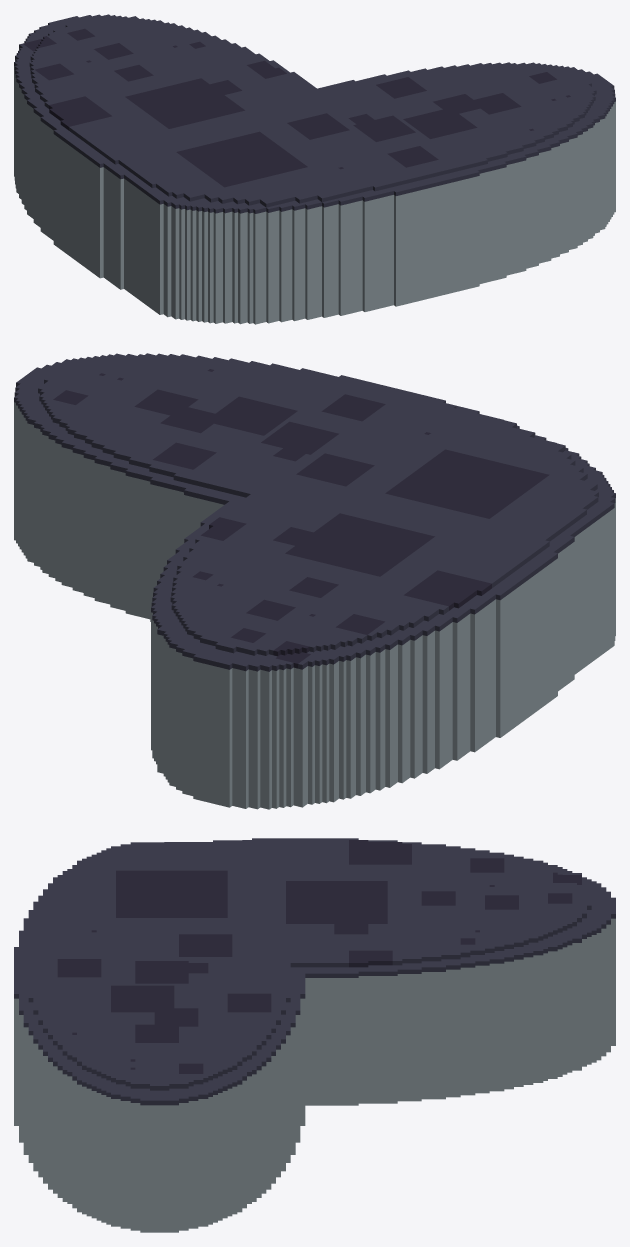
The model's file is solcastle.obj.
3 views of the same model, one above another, from view 1: azimuth 30°, elevation 25°; view 2: azimuth 150°, elevation 25°; view 3: azimuth 270°, elevation 25° (orthographic). The views are drawn at different scales.
Bounding box in the file's own units: 12.8 × 3.1 × 12.4.
1 material, 1 textured.
